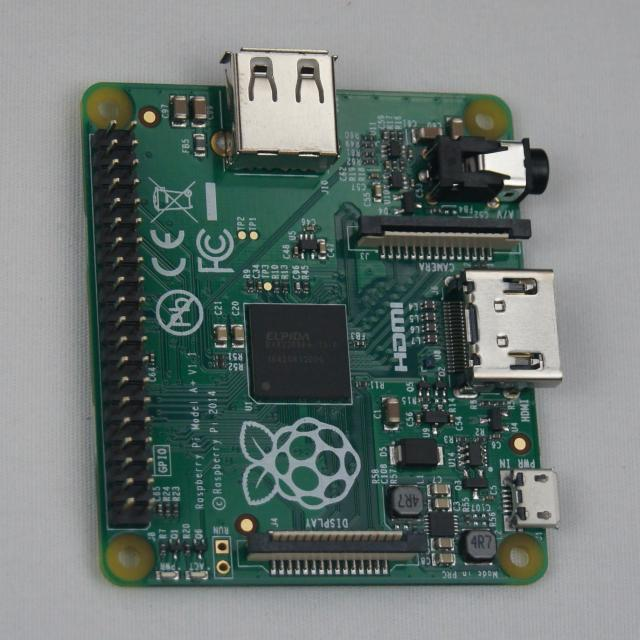Raspberry-Pi-1-A-: (83, 50, 564, 587)
